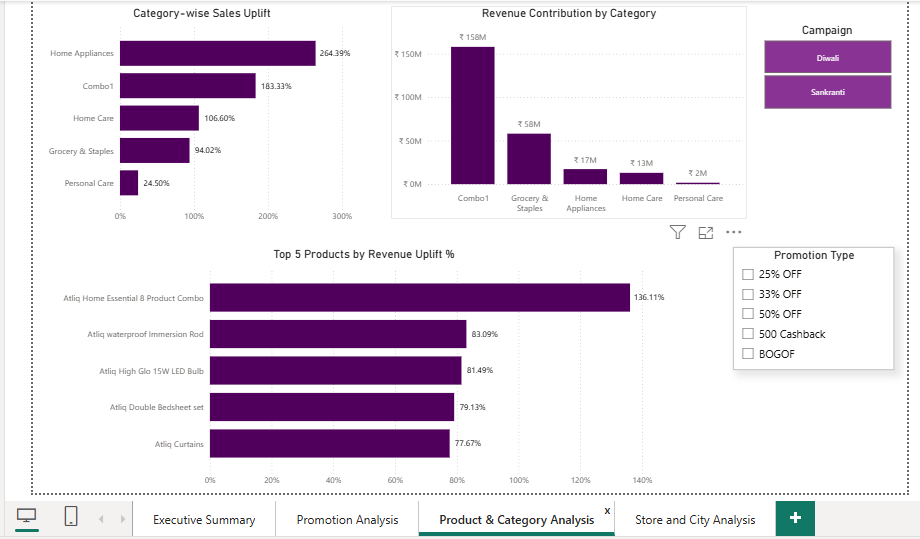

Layout of this report page (visuals, bound fields, positions):
{"tool":"powerbi","page":{"name":"Product & Category Analysis","canvas":[1280,720],"ordinal":2},"visuals":[{"type":"clusteredBarChart","title":"Category-wise Sales Uplift","fields":{"Category":["dim_products.category"],"Y":["fact_events.Incremental Sold Units%"]},"box":[10.2,7.3,474.1,326.3],"z":0},{"type":"clusteredBarChart","title":"Top 5 Products by Revenue Uplift %","fields":{"Category":["dim_products.product_name"],"Y":["fact_events.Incremental Revenue %"]},"box":[24.9,360,919,360],"z":1000},{"type":"clusteredColumnChart","title":"Revenue Contribution by Category","fields":{"Category":["dim_products.category"],"Y":["fact_events.Total Revenue After"]},"box":[523.9,7.3,521,311.7],"z":2000},{"type":"slicer","title":"Campaign","fields":{"Values":["dim_campaigns.campaign_name"]},"box":[1045,31.7,235,131.7],"z":3000},{"type":"slicer","title":"Promotion Type","fields":{"Values":["fact_events.promo_type"]},"box":[1024.4,360,235.6,180],"z":4000}]}

Visuals, with their boxes on the page's 1280x720 design canvas (x1, y1, x2, y2). These are canvas units, not pixel positions in the 920x539 screenshot, which may show the page scaled, cropped or inside an application window:
"Category-wise Sales Uplift" clusteredBarChart: <region>10, 7, 484, 334</region>
"Top 5 Products by Revenue Uplift %" clusteredBarChart: <region>25, 360, 944, 720</region>
"Revenue Contribution by Category" clusteredColumnChart: <region>524, 7, 1045, 319</region>
"Campaign" slicer: <region>1045, 32, 1280, 163</region>
"Promotion Type" slicer: <region>1024, 360, 1260, 540</region>
